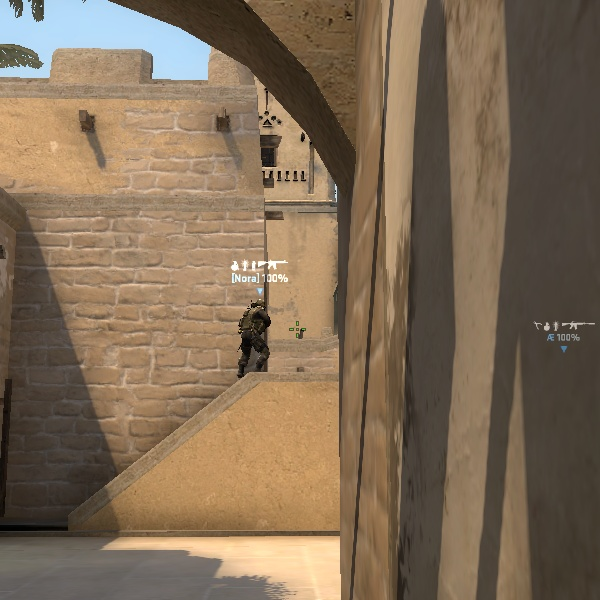ct_body: (230, 295, 280, 374)
